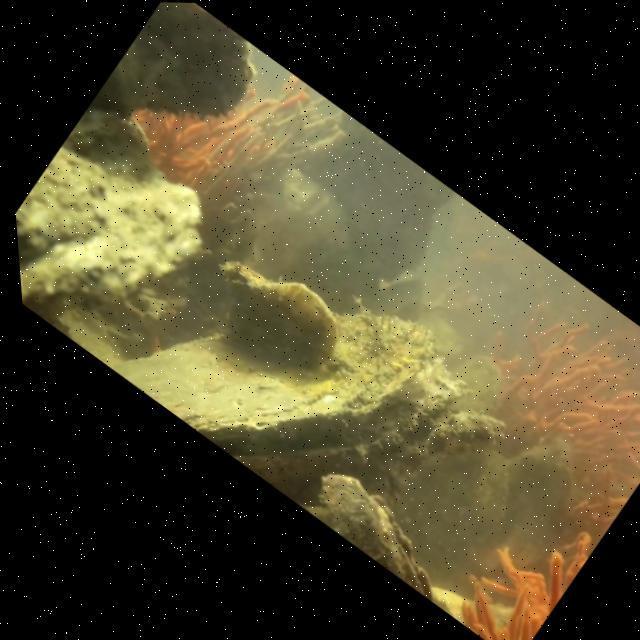Oyster-Closed: (306, 470, 454, 613)
Oyster-Indeterminate: (16, 109, 203, 314)
Oyster-Open: (112, 250, 516, 512)
